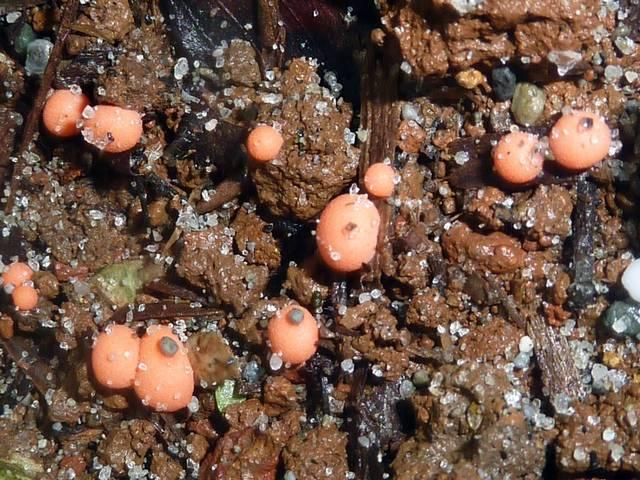Non-edible Mushroom: (133, 322, 195, 412), (314, 191, 381, 273), (548, 109, 612, 170), (89, 321, 140, 390), (266, 302, 319, 366), (78, 103, 143, 154), (490, 129, 545, 184), (40, 87, 88, 138), (509, 81, 546, 126), (245, 123, 283, 162), (362, 161, 398, 197)
